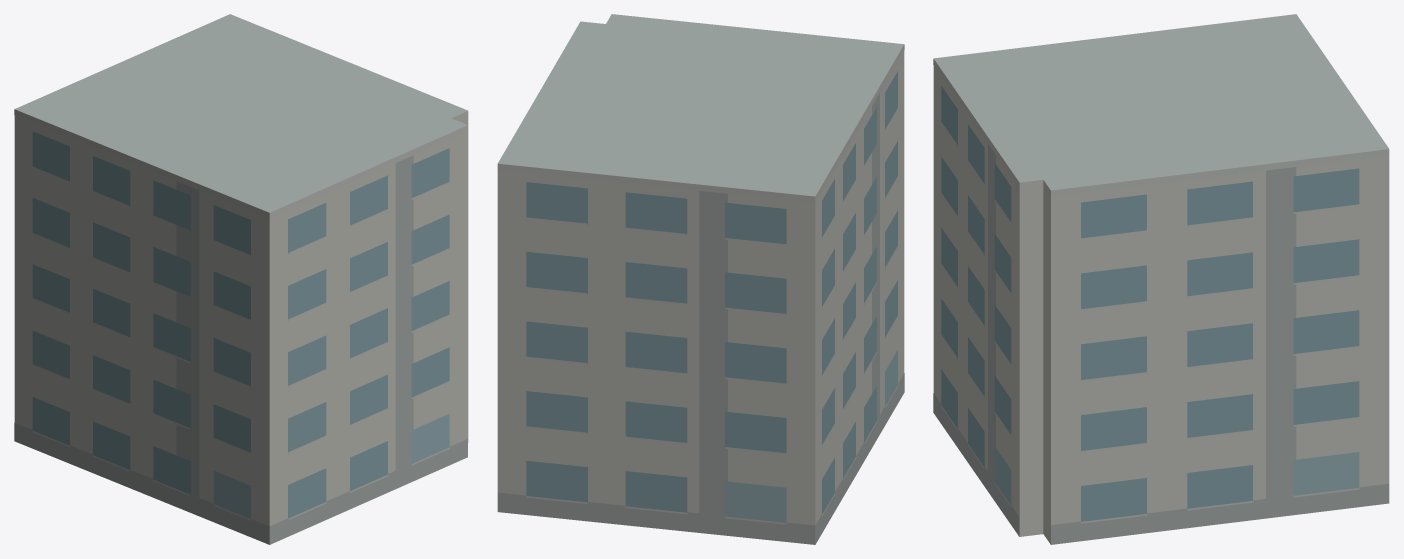
Rendered from survey-upis-32857865.glb.
The picture shows the model from 3 angles, left to right: view 1: azimuth 30°, elevation 25°; view 2: azimuth 150°, elevation 25°; view 3: azimuth 270°, elevation 25°; orthographic projection. The views are drawn at different scales.
Parts seen in each view (by area): view 1: survey-upis-32857865.tmp; view 2: survey-upis-32857865.tmp; view 3: survey-upis-32857865.tmp.
Boxes of the visible parts, <box> form: survey-upis-32857865.tmp: <box>14,14,468,544</box>; survey-upis-32857865.tmp: <box>497,14,904,544</box>; survey-upis-32857865.tmp: <box>933,14,1389,544</box>.
Size of the model in its own units: 14.32 by 13.4 by 15.63.
